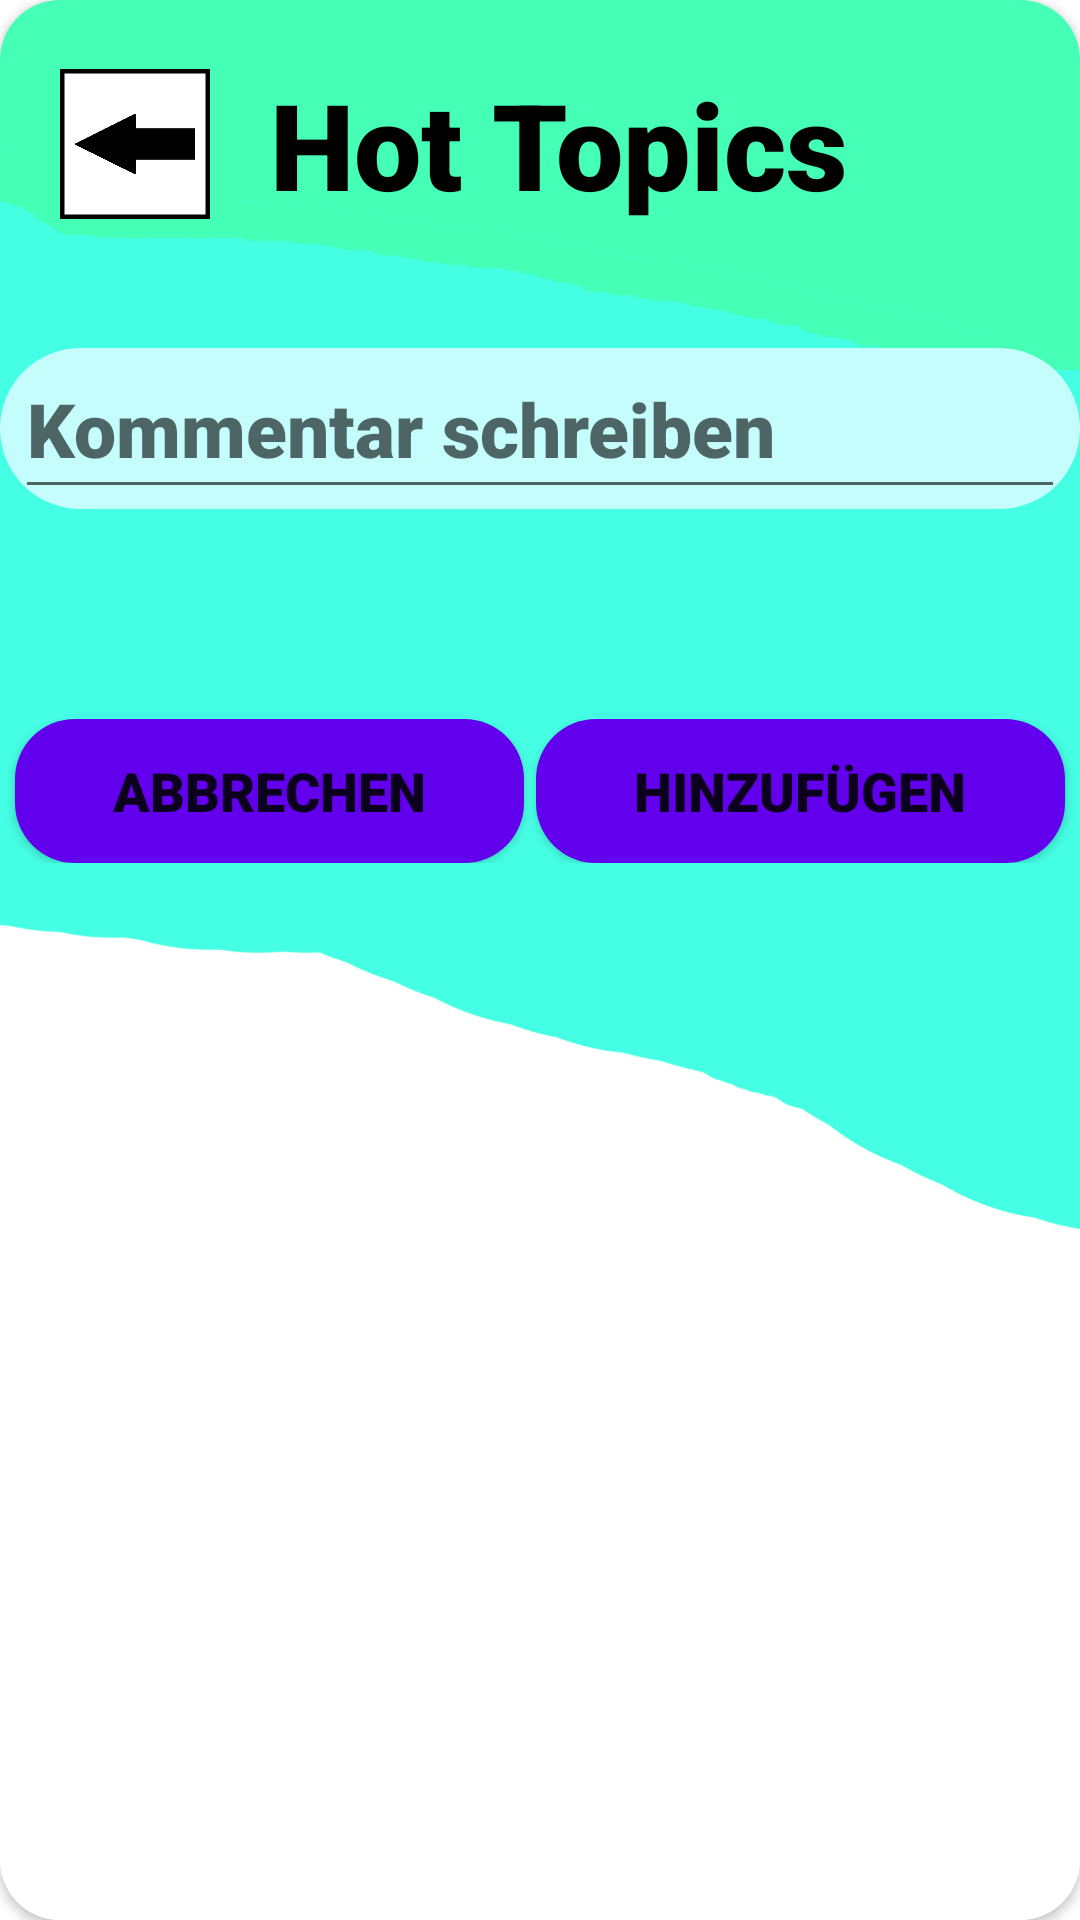

Icons on this 1080×1920 Android screen, each with the point to tap as (x=x, y=y):
zurueck: (x=135, y=144)
